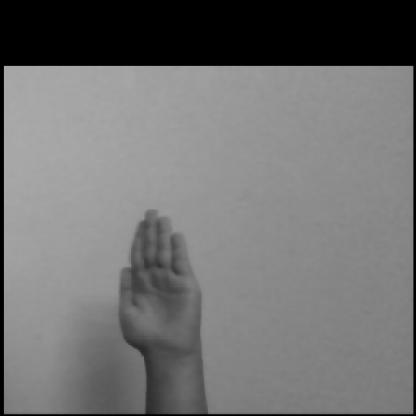palm: (91, 198, 244, 390)
